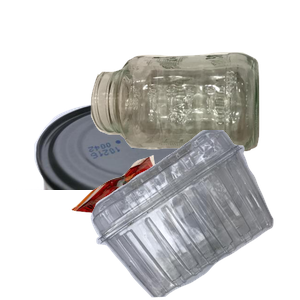glass: (88, 50, 300, 194)
metal: (16, 96, 244, 276)
plastic: (88, 130, 300, 300)
trash: (69, 153, 239, 300)
